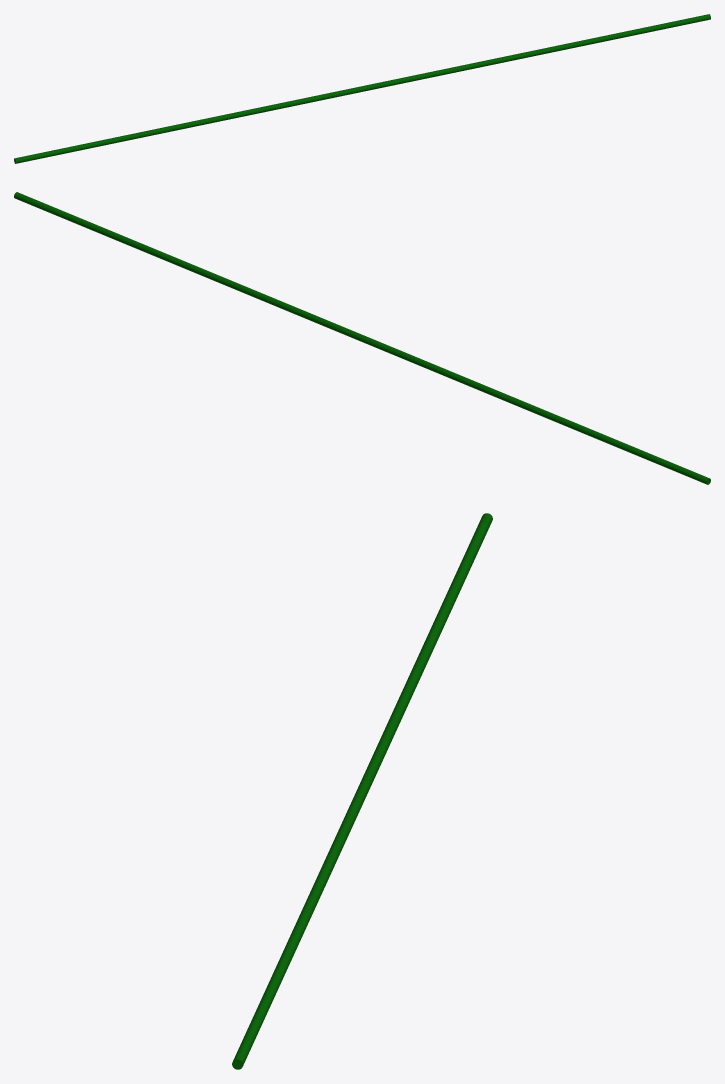
The model's file is Event_105485643_jet_4.fbx.
The picture shows the model from 3 angles, top to bottom: view 1: azimuth 30°, elevation 25°; view 2: azimuth 150°, elevation 25°; view 3: azimuth 270°, elevation 25°; orthographic projection. The views are drawn at different scales.
Visible parts, largest first — view 1: Model; view 2: Model; view 3: Model.
Part boxes in pixels (x1=…): Model: x1=14, y1=14, x2=710, y2=163; Model: x1=14, y1=192, x2=710, y2=484; Model: x1=232, y1=513, x2=492, y2=1069.
Size of the model in its own units: 5.17 by 0.3184 by 0.9226.
